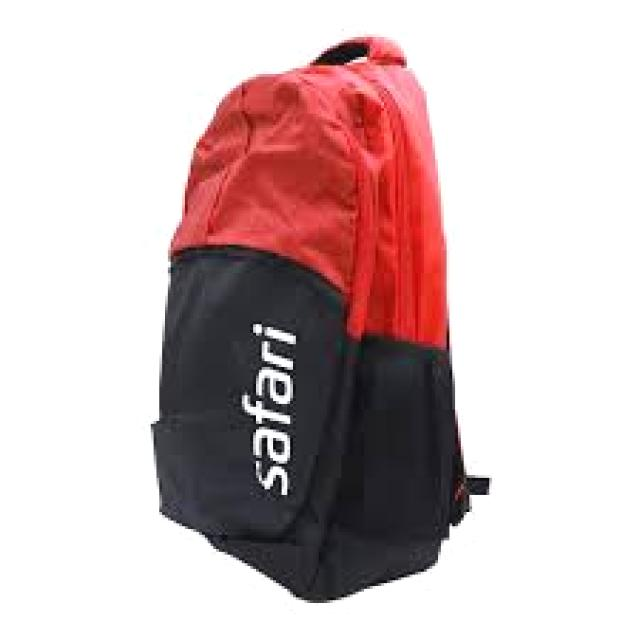backpack: (149, 35, 491, 604)
